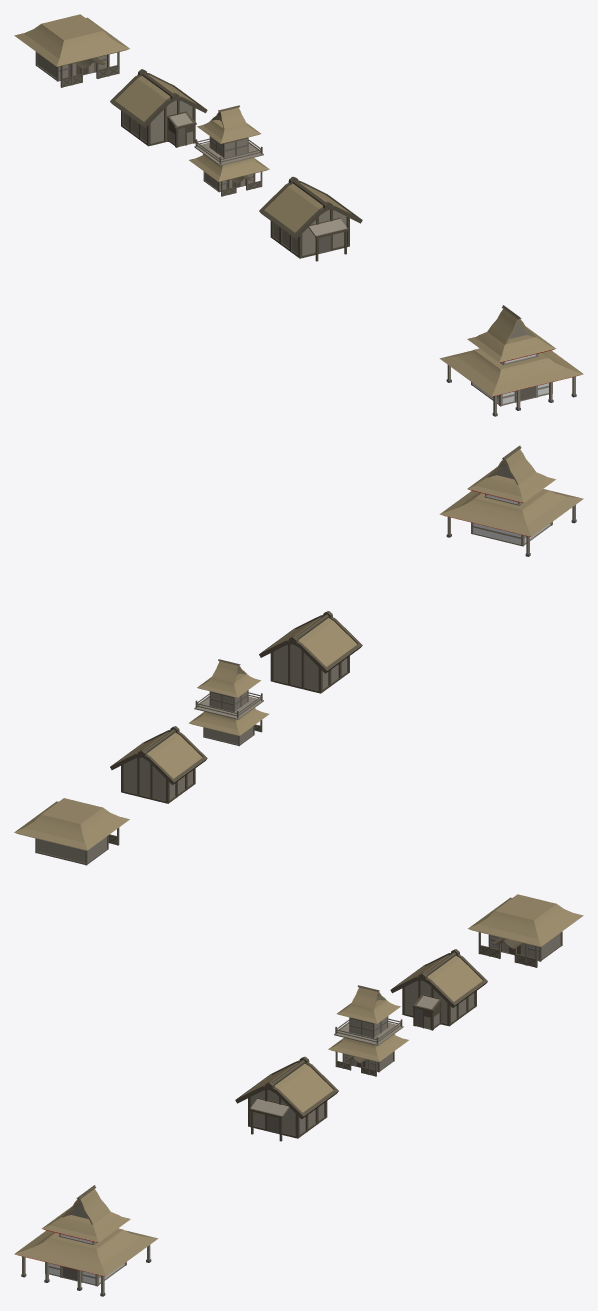
The model's file is firstHouses.fbx.
3 views of the same model, one above another, from view 1: azimuth 30°, elevation 25°; view 2: azimuth 150°, elevation 25°; view 3: azimuth 330°, elevation 25° (orthographic).
Parts seen in each view (by area): view 1: House_4, House_5, House_6, House_3, House_1; view 2: House_4, House_5, House_6, House_3, House_1; view 3: House_4, House_5, House_6, House_3, House_1.
Boxes of the visible parts, <box> form: House_4: <box>439,305,583,416</box>; House_5: <box>259,176,362,261</box>; House_6: <box>14,14,129,87</box>; House_3: <box>110,69,207,147</box>; House_1: <box>189,105,269,196</box>; House_4: <box>439,445,583,556</box>; House_5: <box>259,611,362,693</box>; House_6: <box>14,798,129,865</box>; House_3: <box>110,726,207,803</box>; House_1: <box>189,659,269,746</box>; House_4: <box>14,1185,158,1296</box>; House_5: <box>235,1056,338,1141</box>; House_6: <box>468,894,583,967</box>; House_3: <box>390,949,487,1030</box>; House_1: <box>328,985,408,1076</box>.
Size of the model in its own units: 1972 by 1600 by 18005.
